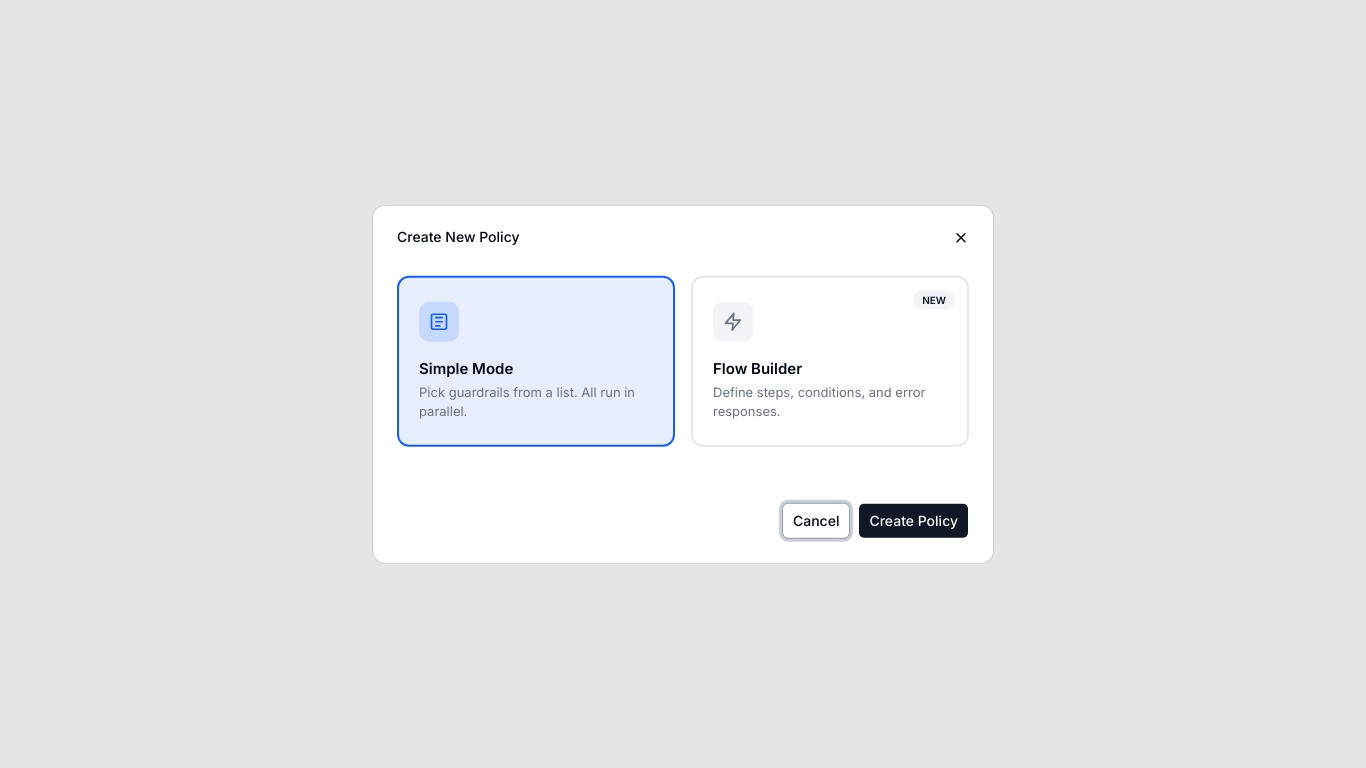
Test: AddPolicyForm › should block submission when the policy name has characters outside the allowed set
Step 1. Click the button "Create Policy" → (914, 520), box [858,502,969,538]
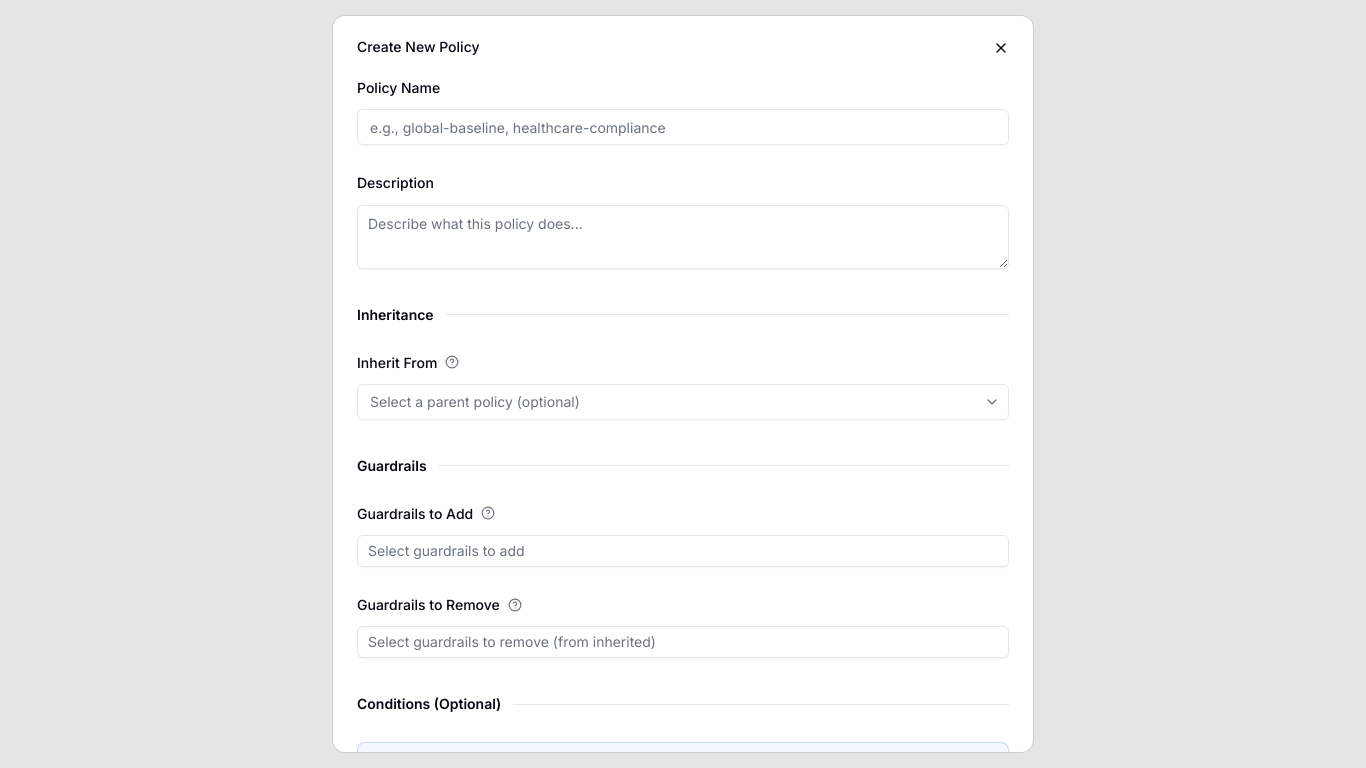
Step 2. Type "not a valid name!" into the field labelled "Policy Name" → (683, 127), box [357,109,1009,145]
(page scrolled)
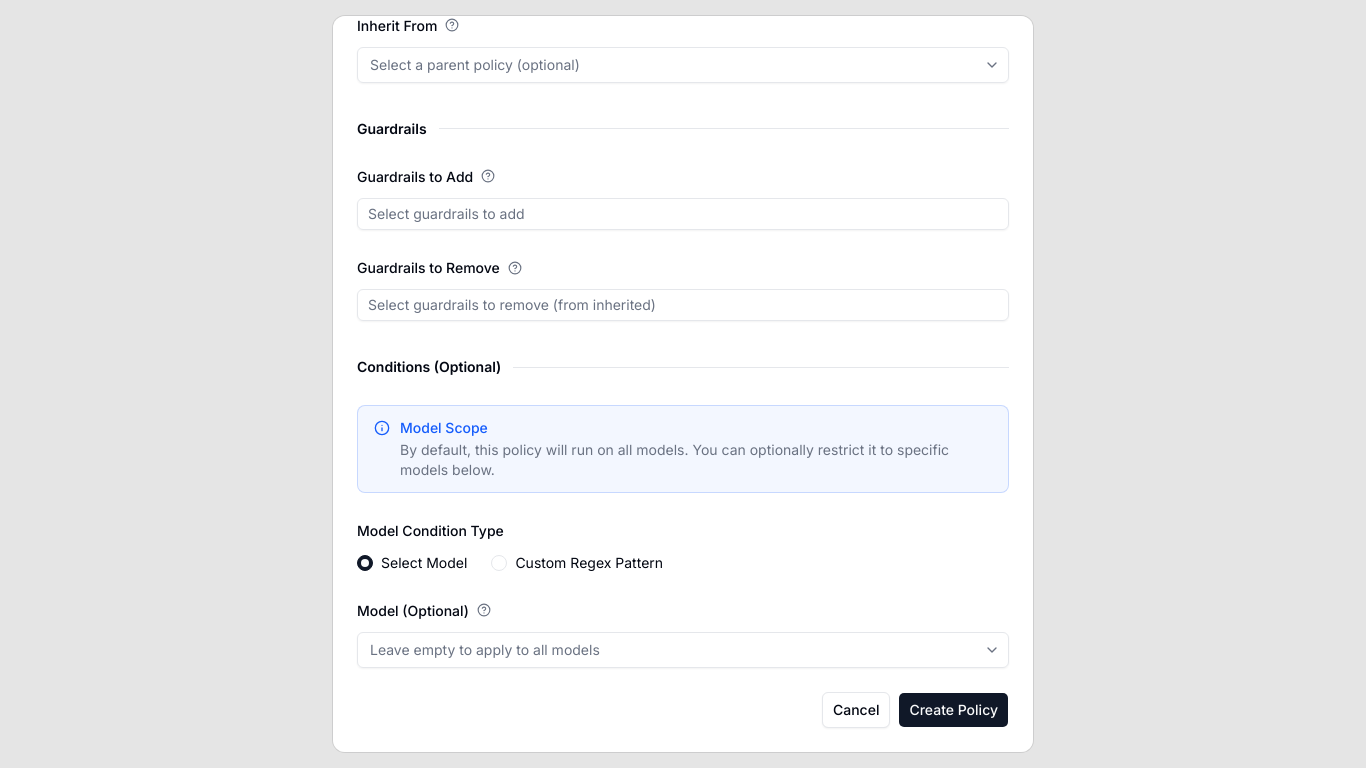
Step 3. Click the button "Create Policy" → (954, 710), box [898,692,1009,728]
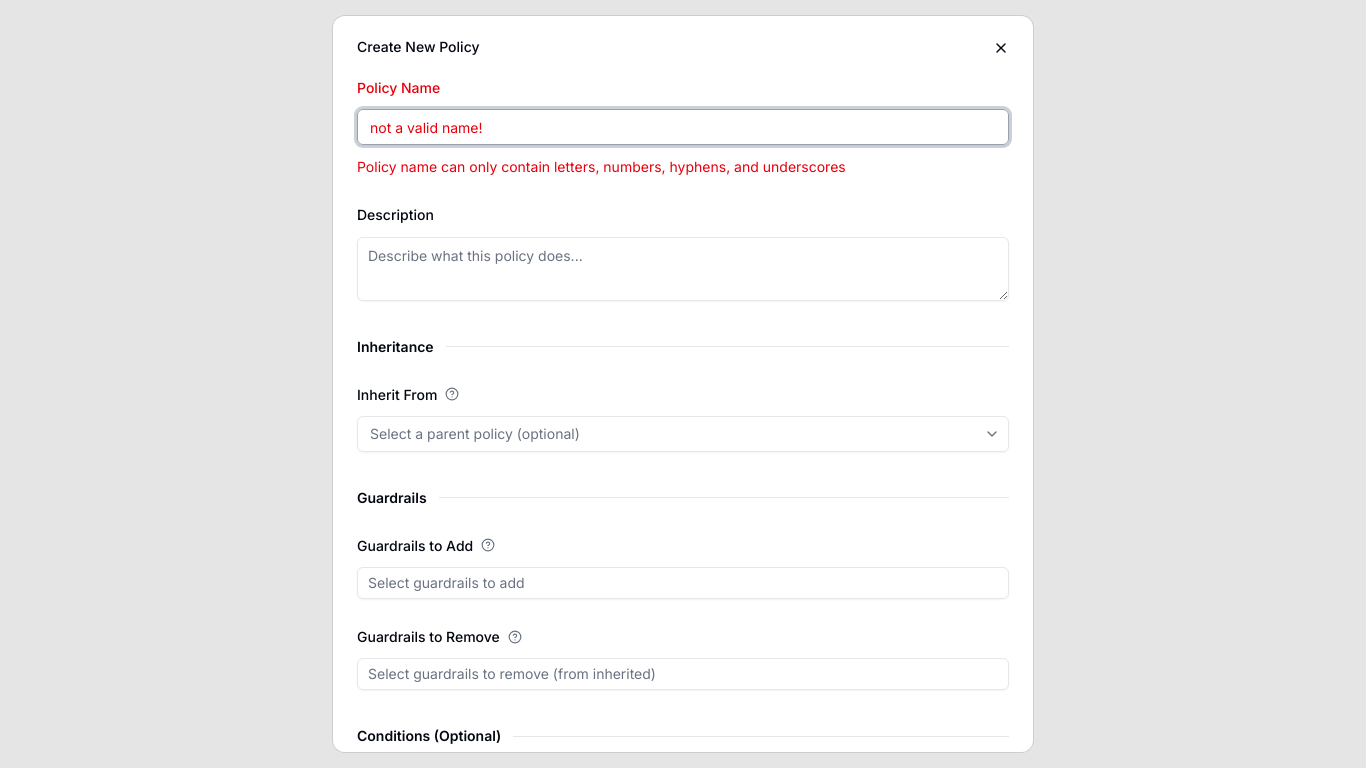
expect the text "Policy name can only contain letters, numbers, hyphens, and underscores" is shown: met, box [357,158,846,175]
